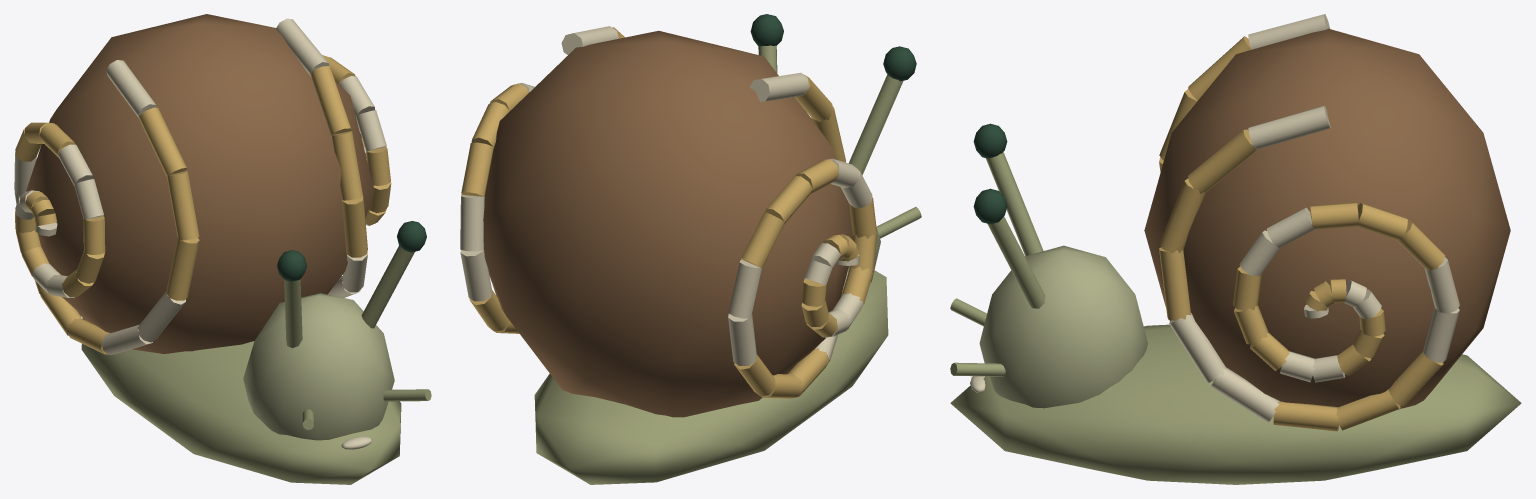
File: discovery-snail.glb
The picture shows the model from 3 angles, left to right: view 1: azimuth 30°, elevation 25°; view 2: azimuth 150°, elevation 25°; view 3: azimuth 270°, elevation 25°; orthographic projection. The views are drawn at different scales.
Parts seen in each view (by area): view 1: discovery-snail-visual; view 2: discovery-snail-visual; view 3: discovery-snail-visual.
Boxes of the visible parts, x1=… form: discovery-snail-visual: x1=14, y1=14, x2=431, y2=484; discovery-snail-visual: x1=460, y1=14, x2=921, y2=484; discovery-snail-visual: x1=950, y1=14, x2=1521, y2=484.
Size of the model in its own units: 0.59 by 0.63 by 0.78.
